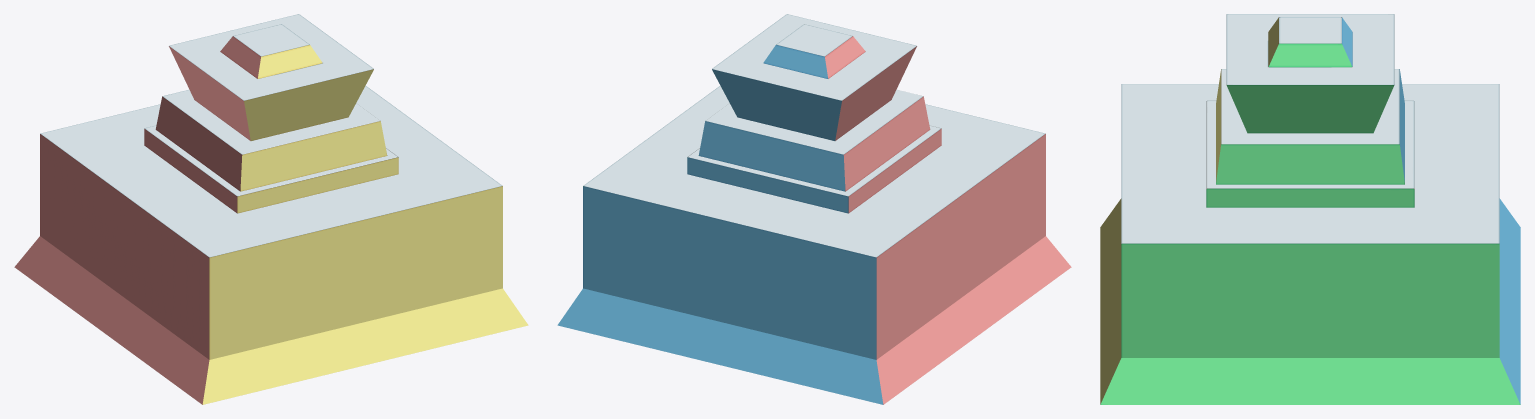
Rendered from coordinatedevice.fbx.
3 views of the same model, side by side, from view 1: azimuth 30°, elevation 25°; view 2: azimuth 150°, elevation 25°; view 3: azimuth 270°, elevation 25° (orthographic). The views are drawn at different scales.
Visible parts, largest first — view 1: body; view 2: body; view 3: body.
Part boxes in pixels (x1,y1,x2,y2): body: (14, 14, 528, 404); body: (557, 14, 1071, 404); body: (1100, 14, 1520, 404).
Size of the model in its own units: 125 by 93.75 by 125.
Materials: 1 (1 with a texture image).
